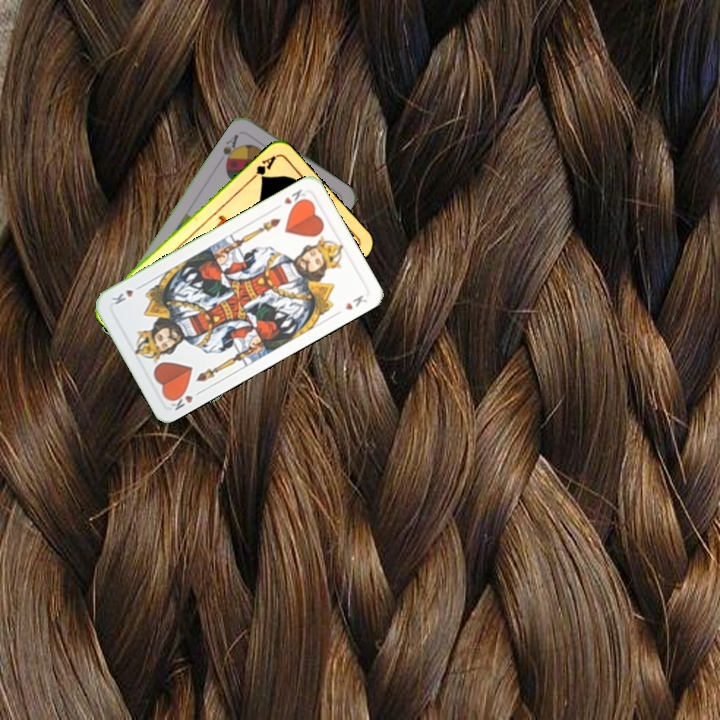GA: (246, 151, 279, 184)
HK: (165, 386, 205, 413), (279, 185, 311, 210)
SA: (216, 130, 243, 167)
